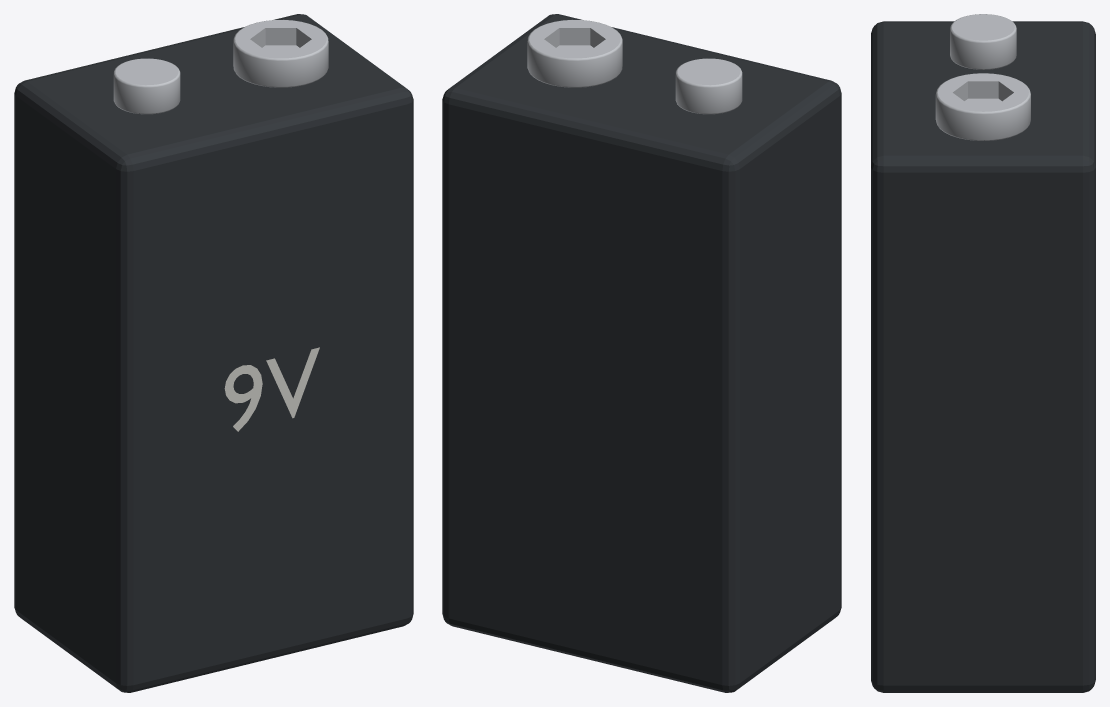
File: Battery9V-v1.fbx
3 views of the same model, side by side, from view 1: azimuth 30°, elevation 25°; view 2: azimuth 150°, elevation 25°; view 3: azimuth 270°, elevation 25° (orthographic).
Visible parts, largest first — view 1: PW_Battery9V; view 2: PW_Battery9V; view 3: PW_Battery9V.
Part boxes in pixels (x1=…): PW_Battery9V: x1=14, y1=14, x2=413, y2=692; PW_Battery9V: x1=442, y1=14, x2=841, y2=692; PW_Battery9V: x1=871, y1=14, x2=1095, y2=692.
Size of the model in its own units: 2.65 by 4.85 by 1.76.
Materials: 1 (1 with a texture image).
